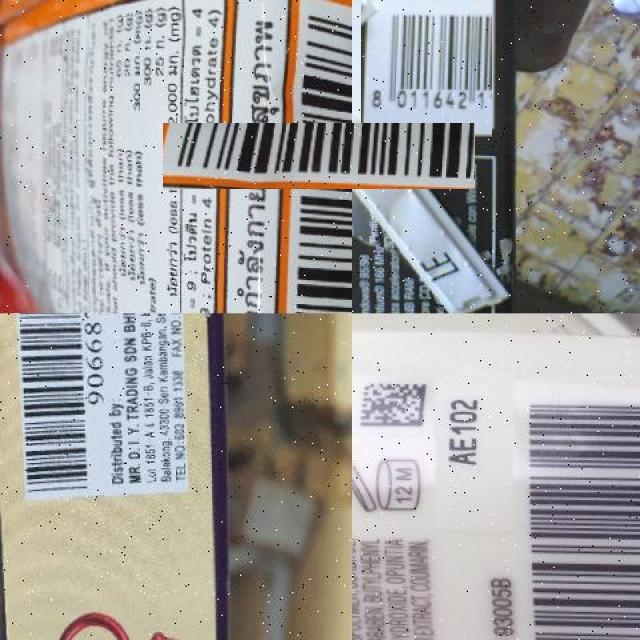Barcode: (224, 62, 414, 251), (520, 386, 640, 640), (357, 0, 496, 135), (12, 314, 104, 510)
